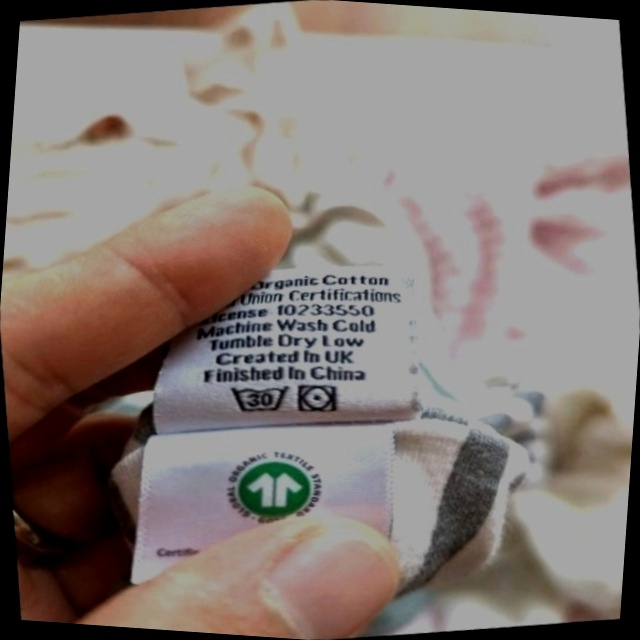30C: (223, 375, 295, 422)
tumble_dry_low: (292, 377, 343, 421)
